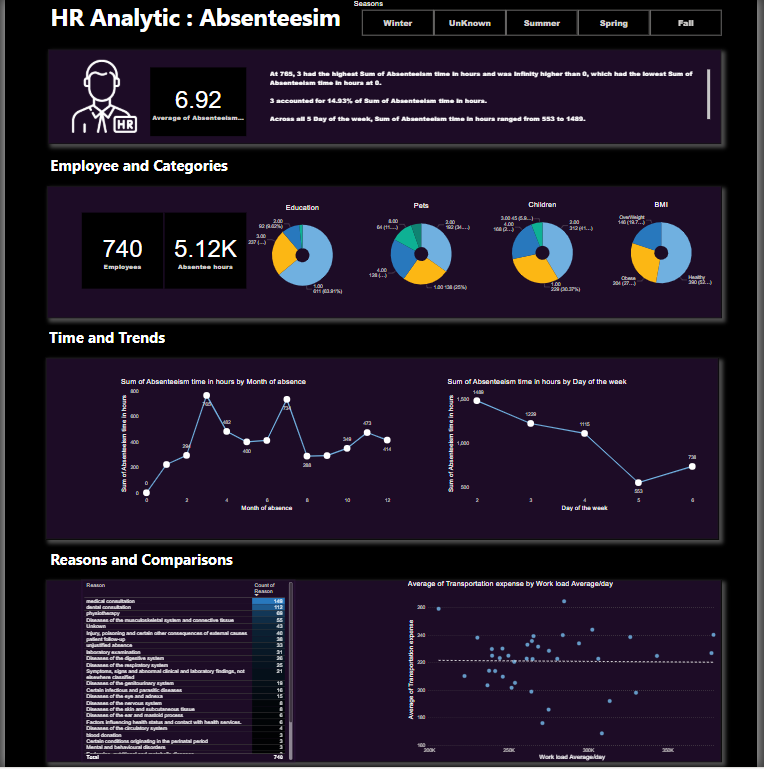

Layout of this report page (visuals, bound fields, positions):
{"tool":"powerbi","page":{"name":"Page 1","canvas":[1880,1920],"ordinal":0},"visuals":[{"type":"shape","box":[103.3,1449.7,1688,456],"z":0},{"type":"shape","box":[108.4,127.1,1682,236],"z":1000},{"type":"shape","box":[102.7,897.1,1682,454],"z":2000},{"type":"shape","box":[105,467.5,1685,330],"z":3000},{"type":"donutChart","title":"Education","fields":{"Y":["Sum(Query1.Education)"],"Category":["Query1.Education"]},"box":[593.1,510,299,240],"z":4000},{"type":"donutChart","title":"Pets","fields":{"Y":["Sum(Query1.Pet)"],"Category":["Query1.Pet"]},"box":[891.5,506.7,299,240],"z":5000},{"type":"donutChart","title":"BMI","fields":{"Category":["Query1.BMI_Category"],"Y":["CountNonNull(Query1.BMI_Category)"]},"box":[1491.1,503,299,240],"z":6000},{"type":"donutChart","title":"Children","fields":{"Y":["Sum(Query1.Son)"],"Category":["Query1.Son"]},"box":[1193.1,505,299,240],"z":7000},{"type":"lineChart","fields":{"Category":["Query1.Month of absence"],"Y":["Sum(Query1.Absenteeism time in hours)"]},"box":[285.5,943.9,685,340],"z":8000},{"type":"lineChart","fields":{"Category":["Query1.Day of the week"],"Y":["Sum(Query1.Absenteeism time in hours)"]},"box":[1098.7,943.1,632,340],"z":9000},{"type":"tableEx","fields":{"Values":["Query1.Reason","CountNonNull(Query1.Reason)"]},"box":[191.9,1450.1,532.6,455.9],"z":10000},{"type":"scatterChart","fields":{"X":["Query1.Work load Average/day "],"Y":["Avg(Query1.Transportation expense)"]},"box":[1000,1451.1,793.3,455.6],"z":11000},{"type":"card","fields":{"Values":["CountNonNull(Query1.ID)"]},"box":[191.1,532.2,203.3,190],"z":12000},{"type":"card","fields":{"Values":["Sum(Query1.Absenteeism time in hours)"]},"box":[398.6,532.9,204.3,190],"z":13000},{"type":"card","fields":{"Values":["Avg(Query1.Absenteeism time in hours)"]},"box":[363.3,170,240,171.7],"z":14000},{"type":"textbox","box":[655,170,1110,150],"z":15000},{"type":"textbox","box":[107.5,0,970,97.5],"z":15001},{"type":"textbox","box":[107.5,385,980,60],"z":15002},{"type":"textbox","box":[105,815,980,60],"z":15003},{"type":"textbox","box":[107.5,1370,990,62.5],"z":15004},{"type":"image","box":[105,150,287.5,192.5],"z":15005},{"type":"slicer","title":"Seasons","fields":{"Values":["Query1.Seasons_Names"]},"box":[867.5,0,947.5,97.5],"z":15006}]}

Visuals, with their boxes in screenshot pixels (x1, y1, x2, y2), scaled from the page's 1880x1920 canvas onto the 764x769 screenshot:
shape: <box>42,581,728,763</box>
shape: <box>44,51,728,145</box>
shape: <box>42,359,725,541</box>
shape: <box>43,187,727,319</box>
"Education" donutChart: <box>241,204,363,300</box>
"Pets" donutChart: <box>362,203,484,299</box>
"BMI" donutChart: <box>606,201,727,298</box>
"Children" donutChart: <box>485,202,606,298</box>
lineChart - Query1.Month of absence x Sum(Query1.Absenteeism time in hours): <box>116,378,394,514</box>
lineChart - Query1.Day of the week x Sum(Query1.Absenteeism time in hours): <box>446,378,703,514</box>
tableEx - Query1.Reason x CountNonNull(Query1.Reason): <box>78,581,294,763</box>
scatterChart - Query1.Work load Average/day  x Avg(Query1.Transportation expense): <box>406,581,729,764</box>
card - CountNonNull(Query1.ID): <box>78,213,160,289</box>
card - Sum(Query1.Absenteeism time in hours): <box>162,213,245,290</box>
card - Avg(Query1.Absenteeism time in hours): <box>148,68,245,137</box>
textbox: <box>266,68,717,128</box>
textbox: <box>44,0,438,39</box>
textbox: <box>44,154,442,178</box>
textbox: <box>43,326,441,350</box>
textbox: <box>44,549,446,574</box>
image: <box>43,60,160,137</box>
"Seasons" slicer: <box>353,0,738,39</box>
